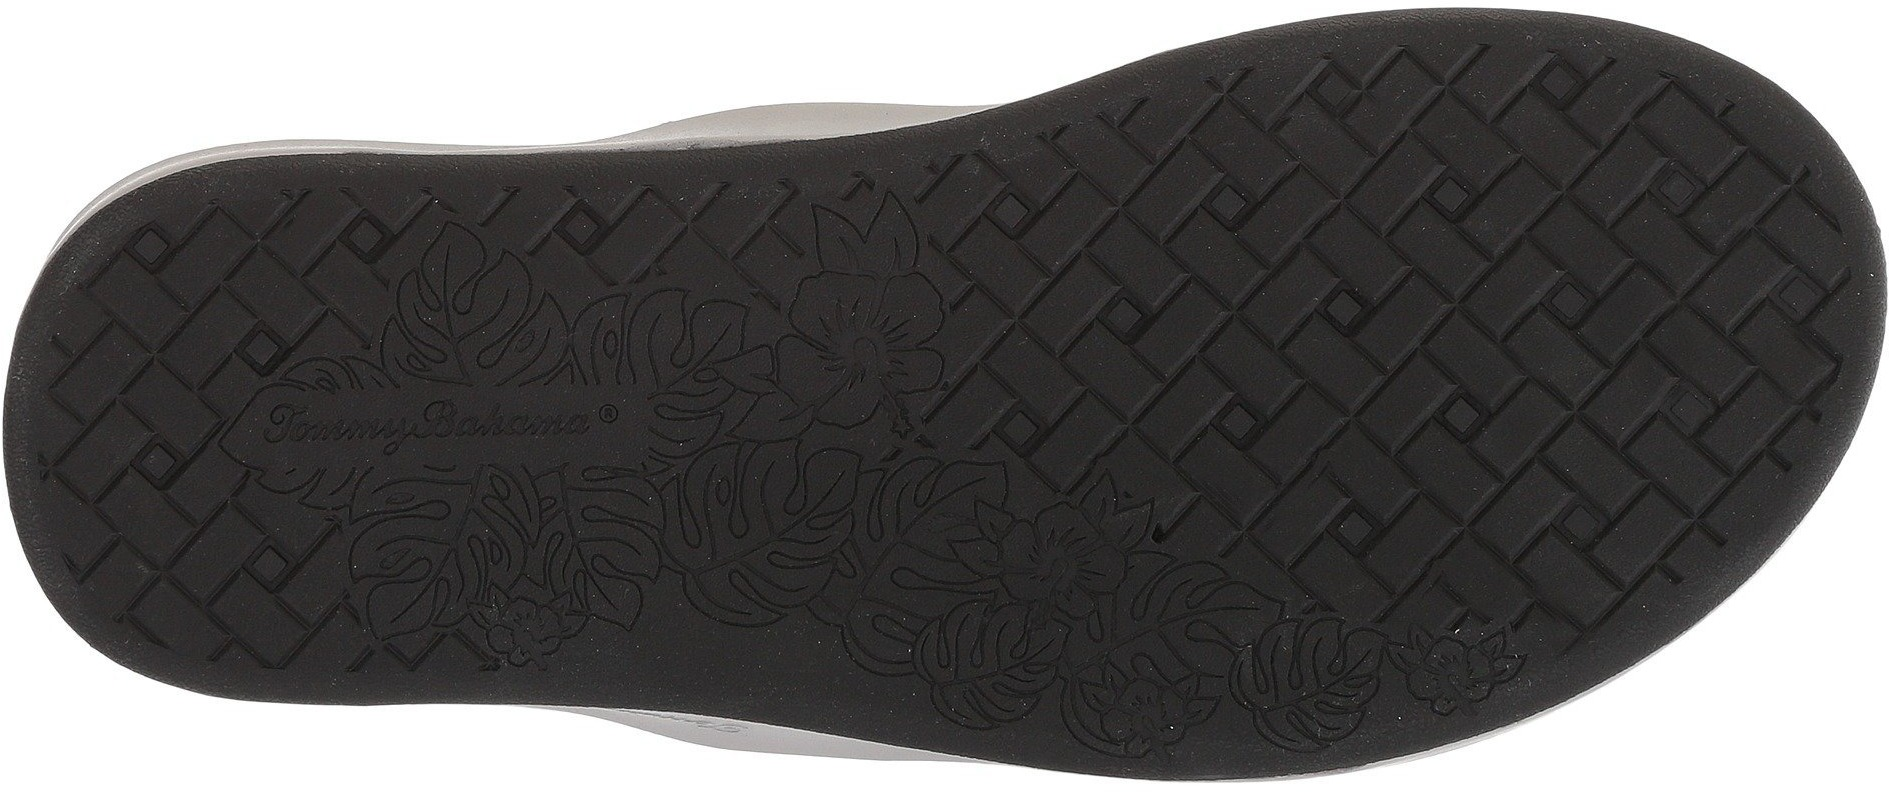circle: (545, 387, 640, 459)
line: (726, 420, 941, 627)
quad: (1175, 119, 1585, 514), (1585, 165, 1816, 386), (941, 156, 1164, 369), (88, 251, 261, 417)
text: (411, 391, 539, 457), (272, 391, 404, 454), (545, 387, 640, 459)
